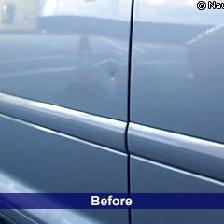door_dent: (96, 59, 123, 93)
